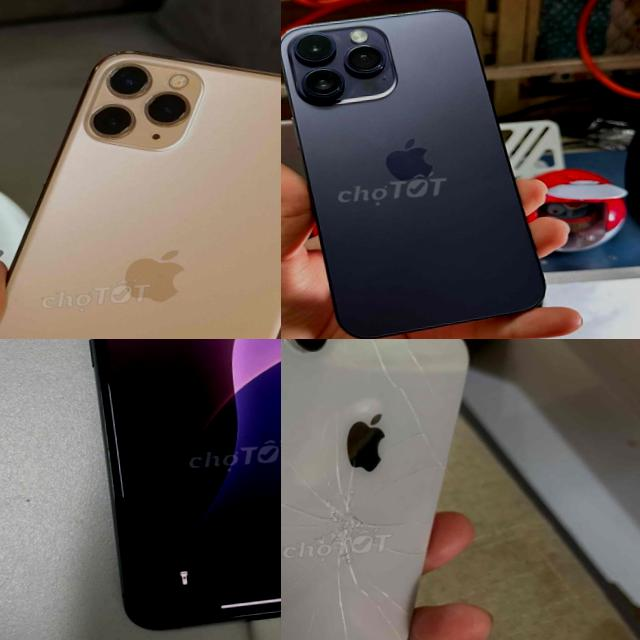gen_11: (0, 26, 281, 339), (71, 339, 281, 632)
gen_14: (281, 0, 559, 339)
gen_x_xs: (281, 339, 467, 640)
physical_damage: (281, 339, 467, 640)
scratch: (130, 378, 207, 426)
